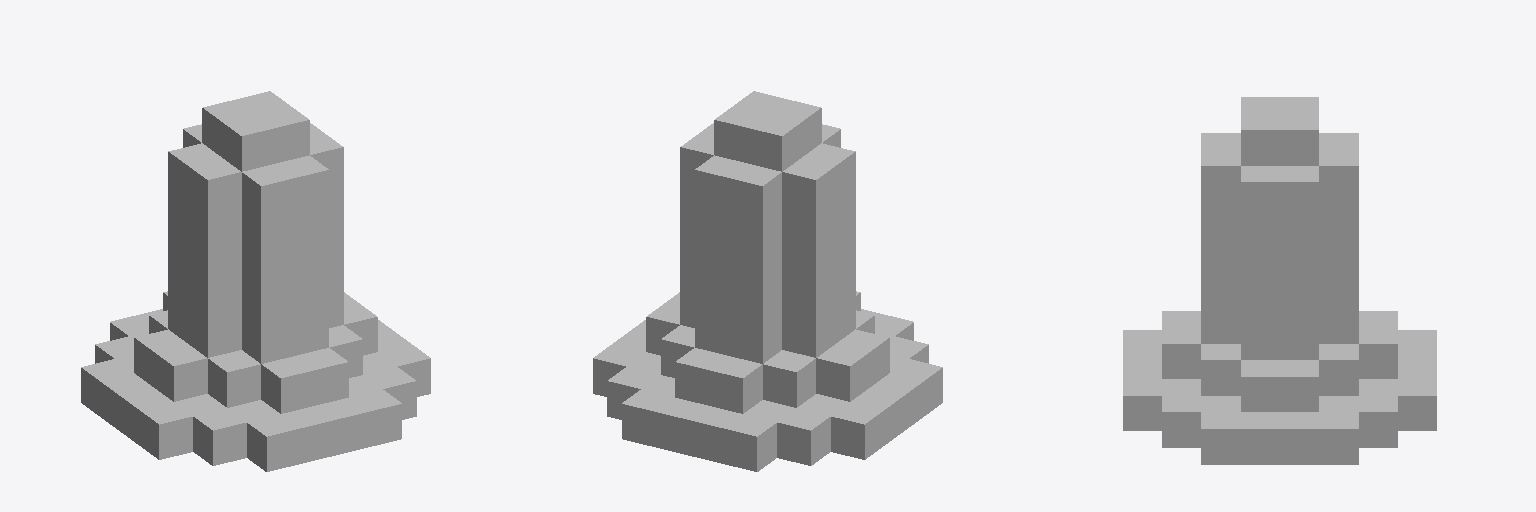
The model's file is alarm_light.obj.
3 views of the same model, side by side, from view 1: azimuth 30°, elevation 25°; view 2: azimuth 150°, elevation 25°; view 3: azimuth 270°, elevation 25° (orthographic).
Visible parts, largest first — view 1: alarm_light; view 2: alarm_light; view 3: alarm_light.
Part boxes in pixels (bbox=[...]): alarm_light: bbox=[81, 91, 430, 471]; alarm_light: bbox=[593, 91, 942, 471]; alarm_light: bbox=[1123, 97, 1436, 464].
Bounding box in the file's own units: 8 × 8 × 8.